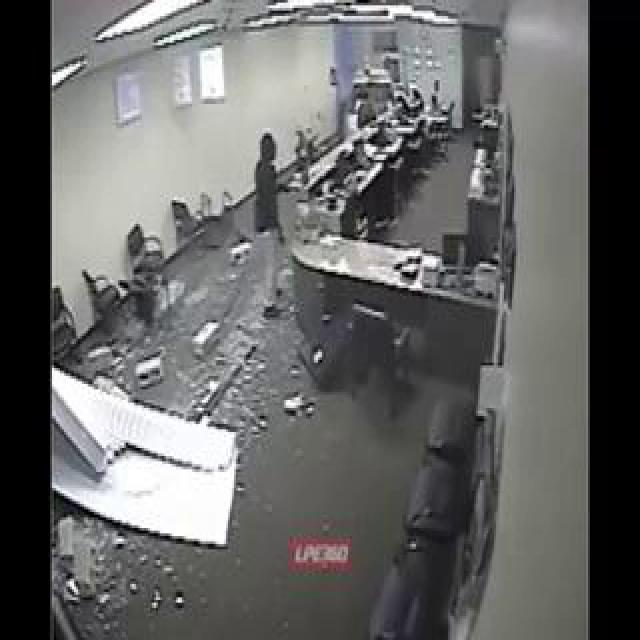burglary: (197, 76, 461, 476)
